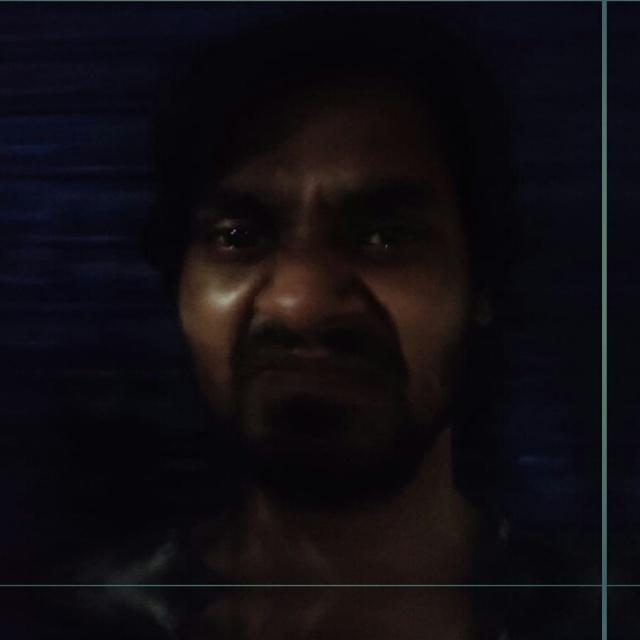Disgust: (106, 89, 538, 486)
